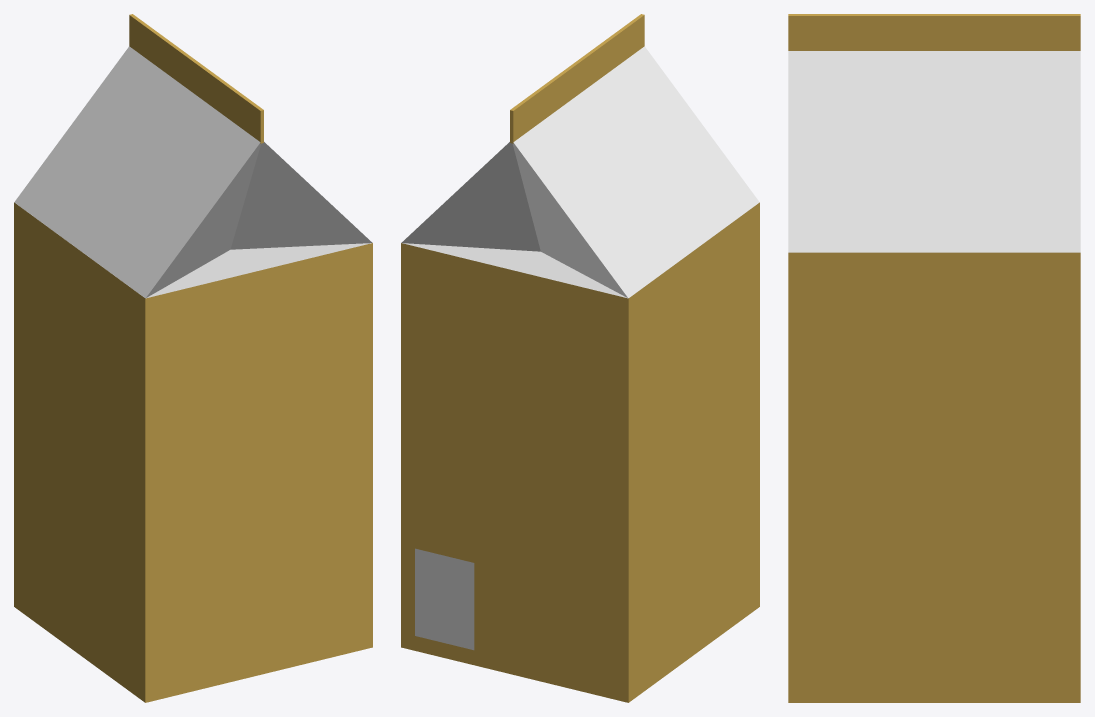
File: OrangeJuiceV1.fbx
3 renders of one model, left to right at view 1: azimuth 30°, elevation 25°; view 2: azimuth 150°, elevation 25°; view 3: azimuth 270°, elevation 25°, orthographic. The views are drawn at different scales.
Visible parts, largest first — view 1: Cube; view 2: Cube; view 3: Cube.
Part boxes in pixels (left/top/right/bottom): Cube: left=14, top=14, right=372, bottom=702; Cube: left=401, top=14, right=759, bottom=702; Cube: left=788, top=14, right=1080, bottom=702.
Size of the model in its own units: 200 by 200 by 474.
